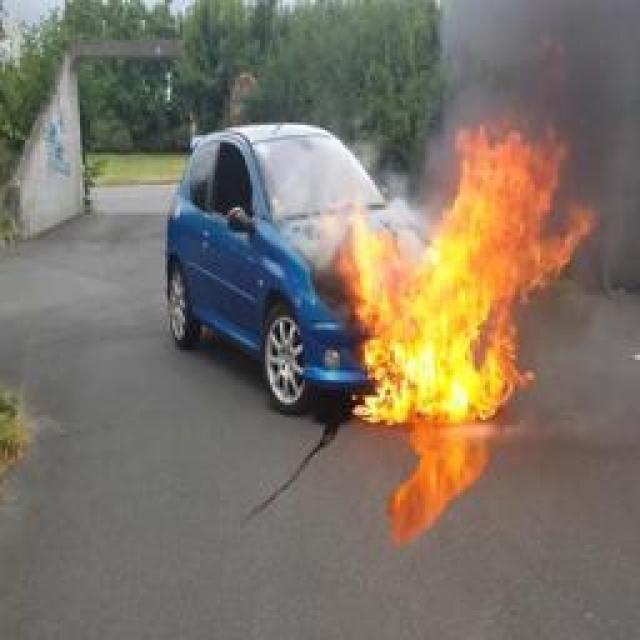Fire: (338, 128, 596, 422)
